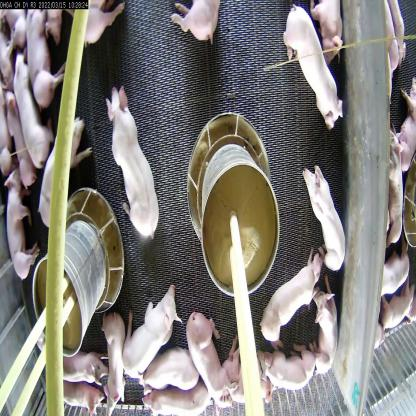Pig: (105, 79, 160, 241), (282, 4, 345, 134), (259, 242, 323, 342), (124, 283, 181, 385), (41, 115, 92, 228), (184, 301, 233, 413), (302, 160, 346, 274), (12, 50, 54, 168), (23, 4, 69, 111), (219, 335, 274, 414), (257, 333, 316, 399), (5, 166, 40, 274), (97, 308, 132, 416), (3, 87, 37, 190), (306, 274, 340, 377), (139, 346, 201, 392), (53, 340, 112, 388), (386, 127, 408, 255), (167, 0, 226, 46), (140, 385, 213, 415), (309, 1, 343, 65), (57, 378, 107, 414), (380, 245, 414, 296)
